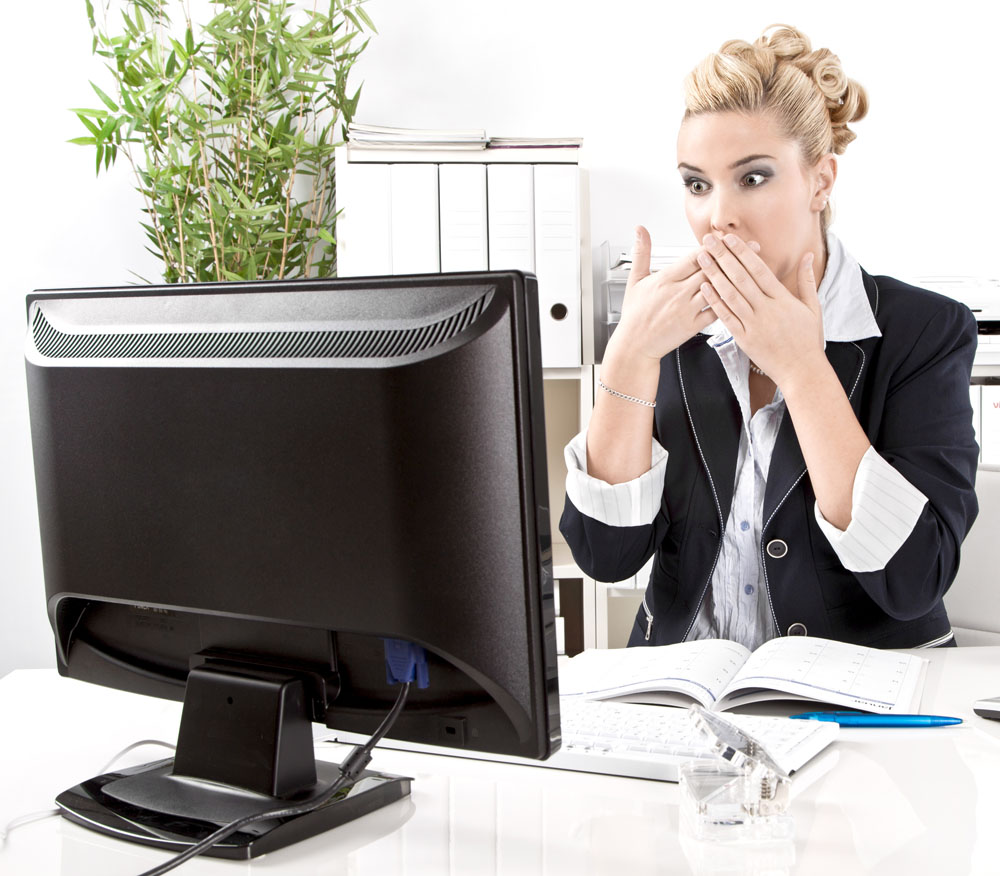face: (677, 111, 812, 282)
